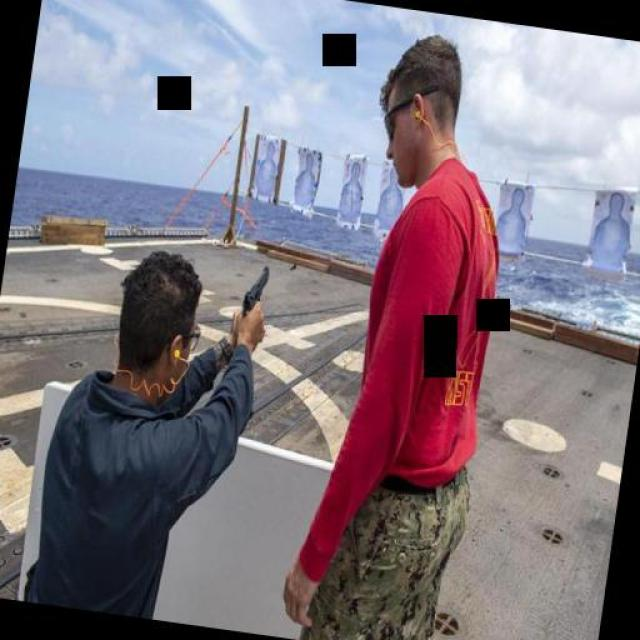gun: (239, 261, 270, 319)
